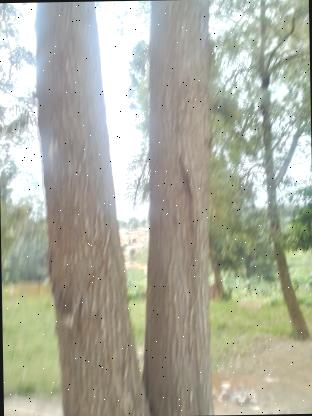tree: (29, 0, 145, 416), (132, 0, 218, 416)
